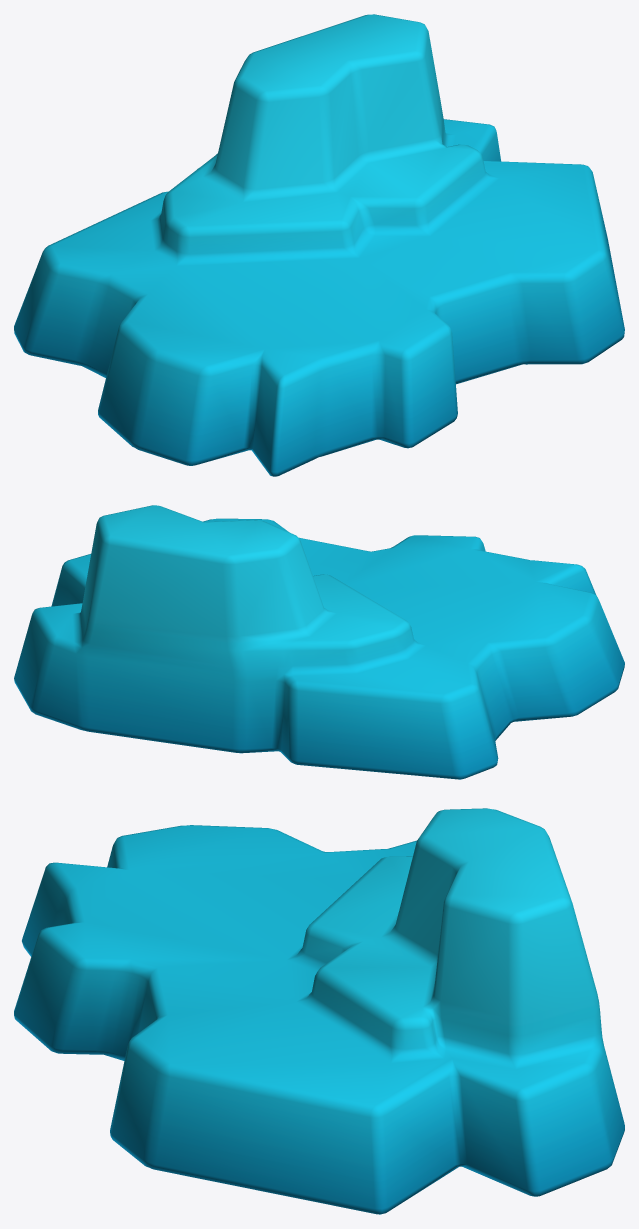
Rendered from Ice_02.fbx.
The picture shows the model from 3 angles, top to bottom: view 1: azimuth 30°, elevation 25°; view 2: azimuth 150°, elevation 25°; view 3: azimuth 270°, elevation 25°; orthographic projection. The views are drawn at different scales.
Parts seen in each view (by area): view 1: Ice_02; view 2: Ice_02; view 3: Ice_02.
Boxes of the visible parts, <box> form: Ice_02: <box>14,14,624,476</box>; Ice_02: <box>14,505,624,779</box>; Ice_02: <box>14,808,624,1214</box>.
Size of the model in its own units: 1616 by 1342 by 570.
